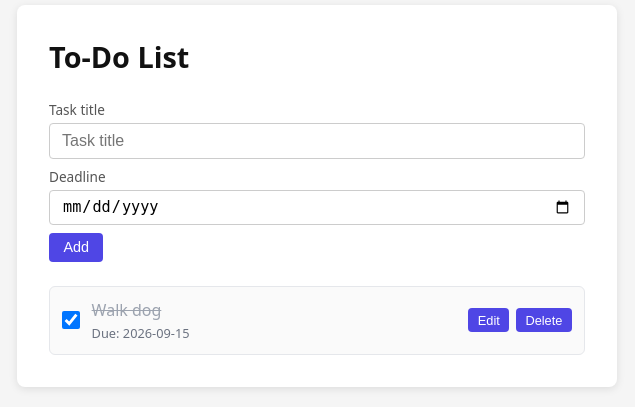
Edit task › populates the form with existing values when edit is clicked
Expected: the text "Walk dog" is shown, left=92, top=299, right=161, bottom=321
Click the button "Edit" at (489, 320), box left=468, top=308, right=510, bottom=332
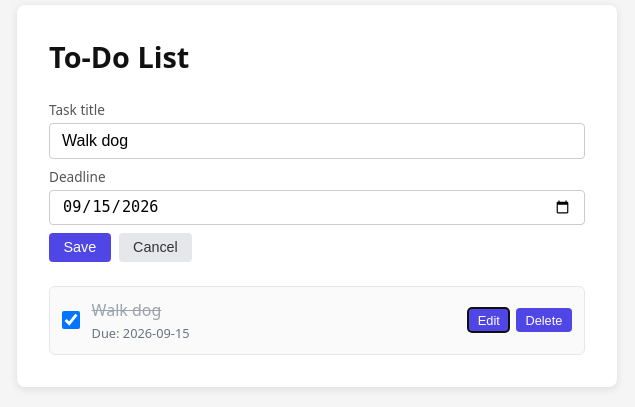
Now the field showing "Walk dog" is shown, box left=49, top=123, right=585, bottom=159
Now the date field showing "2026-09-15" is shown, box left=49, top=190, right=585, bottom=225
